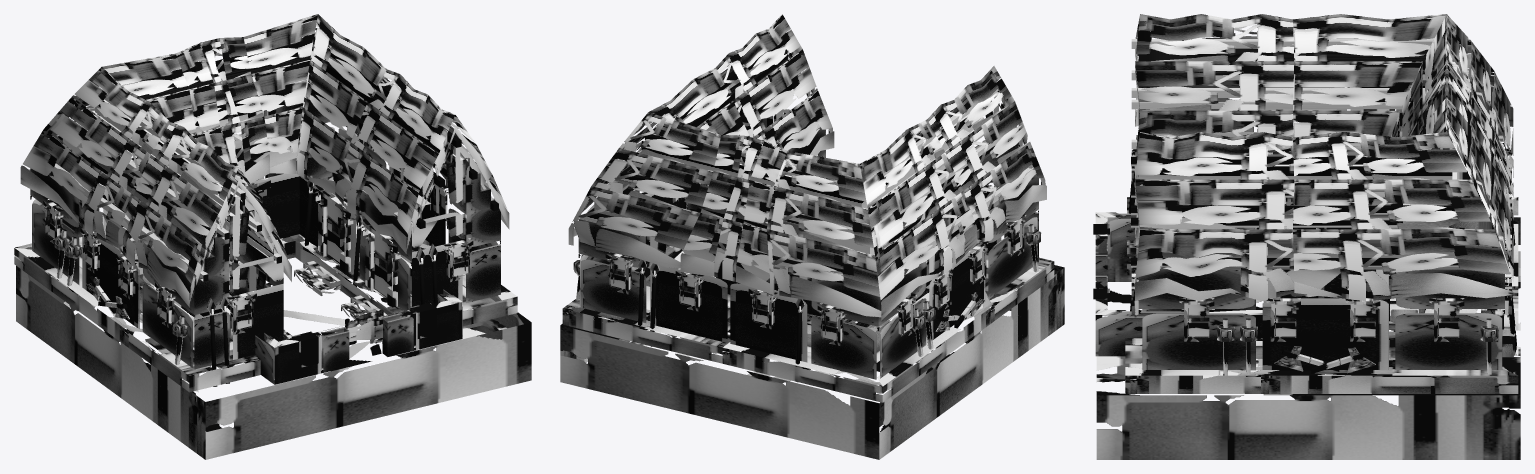
Rendered from barracks.dae.
3 views of the same model, side by side, from view 1: azimuth 30°, elevation 25°; view 2: azimuth 150°, elevation 25°; view 3: azimuth 270°, elevation 25° (orthographic). The views are drawn at different scales.
Parts seen in each view (by area): view 1: barracks; view 2: barracks; view 3: barracks.
Boxes of the visible parts, bbox=[...] form: barracks: bbox=[14, 14, 531, 459]; barracks: bbox=[560, 14, 1064, 459]; barracks: bbox=[1093, 14, 1520, 459].
Size of the model in its own units: 19 by 19.13 by 14.67.
